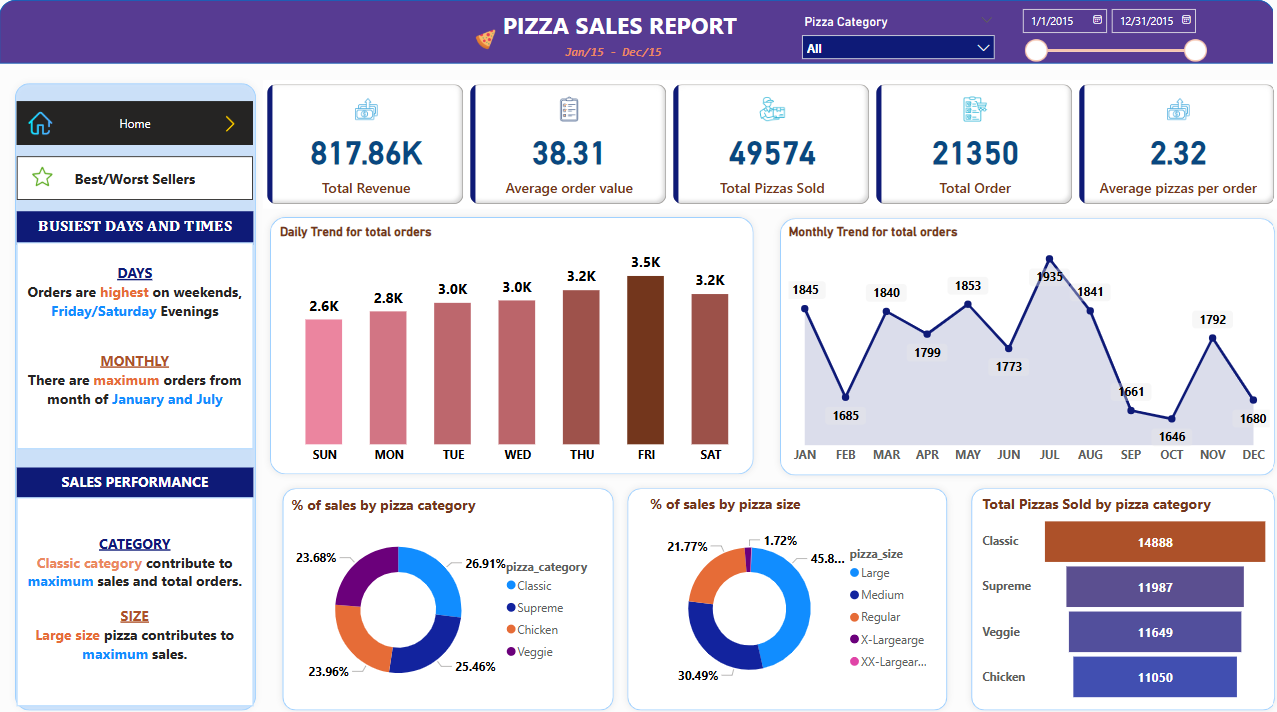

The dashboard page shown, as its layout file describes it:
{"tool":"powerbi","page":{"name":"Home","canvas":[1500,820],"ordinal":0},"visuals":[{"type":"cardVisual","fields":{"Data":["pizza_sales.Total Revenue","pizza_sales.Average order value","pizza_sales.Total Pizzas Sold","pizza_sales.Total Order","pizza_sales.Average pizzas per order"]},"box":[314.3,91.4,1165.7,147.1],"z":0},{"type":"shape","box":[12.9,0,1457.1,72.9],"z":1000},{"type":"textbox","box":[575.7,5.7,292.9,47.1],"z":2000},{"type":"textbox","box":[654.3,44.3,138.6,28.6],"z":3000},{"type":"image","box":[549.4,28.2,37.6,32.9],"z":4000},{"type":"shape","box":[314.3,240,568.6,310],"z":5000},{"type":"columnChart","title":"Daily Trend for total orders","fields":{"Category":["pizza_sales.Order Day"],"Y":["pizza_sales.Total Order"]},"box":[328.6,255.7,554.3,284.3],"z":6000},{"type":"shape","box":[897.1,241.4,582.9,310],"z":7000},{"type":"areaChart","title":"Monthly Trend for total orders","fields":{"Category":["pizza_sales.Month Day"],"Y":["pizza_sales.Total Order"]},"box":[910,255.7,560,284.3],"z":8000},{"type":"shape","box":[722.9,550,381.4,270],"z":9000},{"type":"shape","box":[1115.7,550,364.3,270],"z":10000},{"type":"shape","box":[328.6,550,394.3,270],"z":11000},{"type":"donutChart","title":"% of sales by pizza category","fields":{"Category":["pizza_sales.pizza_category"],"Y":["pizza_sales.Total Revenue"]},"box":[341.4,565.7,364.3,241.4],"z":12000},{"type":"donutChart","title":"% of sales by pizza size","fields":{"Category":["pizza_sales.pizza_size"],"Y":["pizza_sales.Total Revenue"]},"box":[751.4,564.3,337.1,241.4],"z":13000},{"type":"funnel","title":"Total Pizzas Sold by pizza category","fields":{"Category":["pizza_sales.pizza_category"],"Y":["pizza_sales.Total Pizzas Sold"]},"box":[1131.4,564.3,338.6,242.9],"z":14000},{"type":"shape","box":[22.9,87.1,291.4,732.9],"z":15000},{"type":"textbox","box":[32.9,241.4,270,38.6],"z":16000},{"type":"textbox","box":[32.9,277.1,270,235.7],"z":17000},{"type":"textbox","box":[32.9,534.3,270,34.3],"z":18000},{"type":"textbox","box":[32.9,568.6,270,238.6],"z":19000},{"type":"slicer","fields":{"Values":["pizza_sales.pizza_category"]},"box":[920,11.4,240,65.7],"z":20000},{"type":"slicer","fields":{"Values":["pizza_sales.order_date"]},"box":[1170,0,231.4,72.9],"z":21000},{"type":"pageNavigator","box":[32.9,178.6,270,50],"z":22001},{"type":"pageNavigator","box":[32.9,115.7,270,50],"z":22002},{"type":"image","box":[262.9,124.3,28.6,34.3],"z":22003},{"type":"image","box":[45.7,182.9,32.9,37.1],"z":22004},{"type":"image","box":[41.4,120,37.1,41.4],"z":22005}]}

Visuals, with their boxes in screenshot pixels (x1, y1, x2, y2), scaled from the page's 1500x820 canvas onto the 1277x712 screenshot:
cardVisual - pizza_sales.Total Revenue x pizza_sales.Average order value: <box>268,79,1260,207</box>
shape: <box>11,0,1251,63</box>
textbox: <box>490,5,739,46</box>
textbox: <box>557,38,675,63</box>
image: <box>468,24,500,53</box>
shape: <box>268,208,752,478</box>
"Daily Trend for total orders" columnChart: <box>280,222,752,469</box>
shape: <box>764,210,1260,479</box>
"Monthly Trend for total orders" areaChart: <box>775,222,1251,469</box>
shape: <box>615,478,940,711</box>
shape: <box>950,478,1260,711</box>
shape: <box>280,478,615,711</box>
"% of sales by pizza category" donutChart: <box>291,491,601,701</box>
"% of sales by pizza size" donutChart: <box>640,490,927,700</box>
"Total Pizzas Sold by pizza category" funnel: <box>963,490,1251,701</box>
shape: <box>19,76,268,711</box>
textbox: <box>28,210,258,243</box>
textbox: <box>28,241,258,445</box>
textbox: <box>28,464,258,494</box>
textbox: <box>28,494,258,701</box>
slicer - pizza_sales.pizza_category: <box>783,10,988,67</box>
slicer - pizza_sales.order_date: <box>996,0,1193,63</box>
pageNavigator: <box>28,155,258,198</box>
pageNavigator: <box>28,100,258,144</box>
image: <box>224,108,248,138</box>
image: <box>39,159,67,191</box>
image: <box>35,104,67,140</box>
